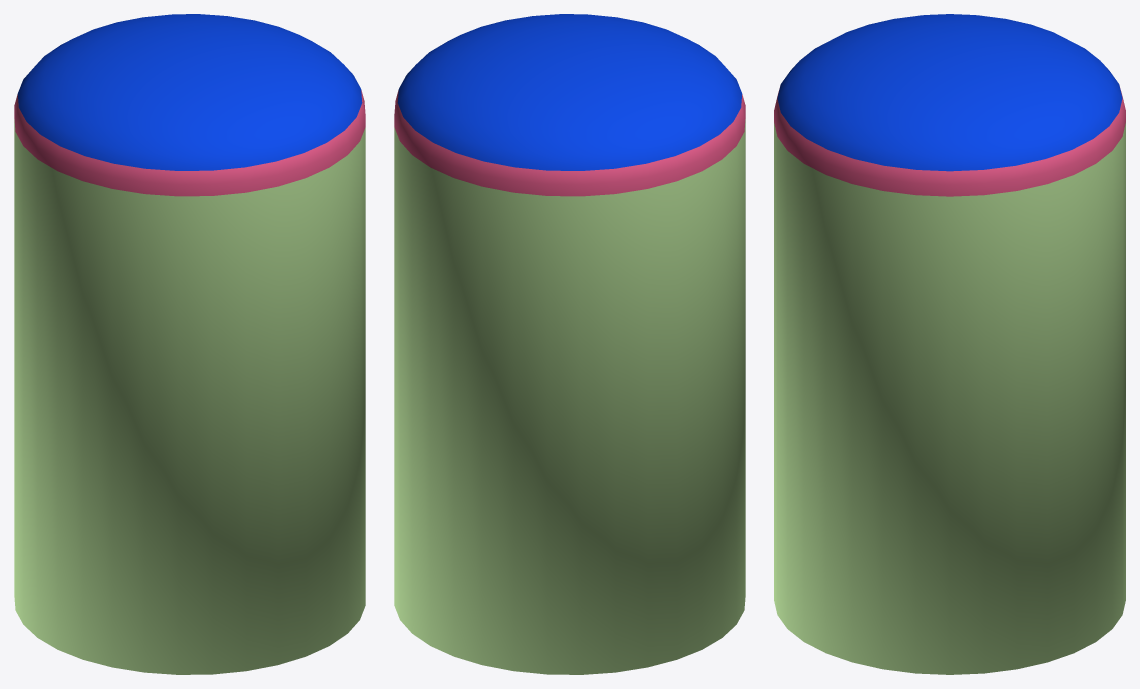
Rendered from stool.fbx.
3 views of the same model, side by side, from view 1: azimuth 30°, elevation 25°; view 2: azimuth 150°, elevation 25°; view 3: azimuth 270°, elevation 25° (orthographic).
Parts seen in each view (by area): view 1: Cylinder.018; view 2: Cylinder.018; view 3: Cylinder.018.
Boxes of the visible parts, x1=… form: Cylinder.018: x1=14, y1=14, x2=365, y2=674; Cylinder.018: x1=394, y1=14, x2=745, y2=674; Cylinder.018: x1=774, y1=14, x2=1125, y2=674.
Size of the model in its own units: 0.4 by 0.6927 by 0.4.
